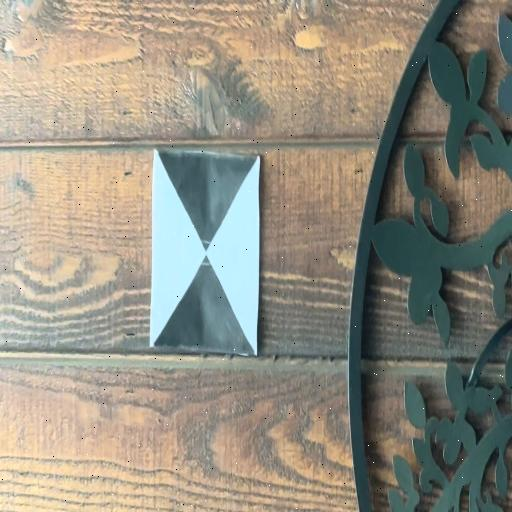target: (152, 149, 258, 355)
